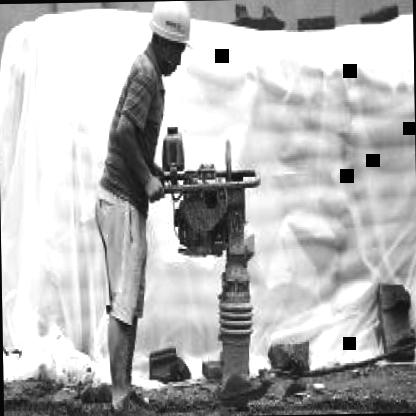helmet: (146, 0, 197, 74)
